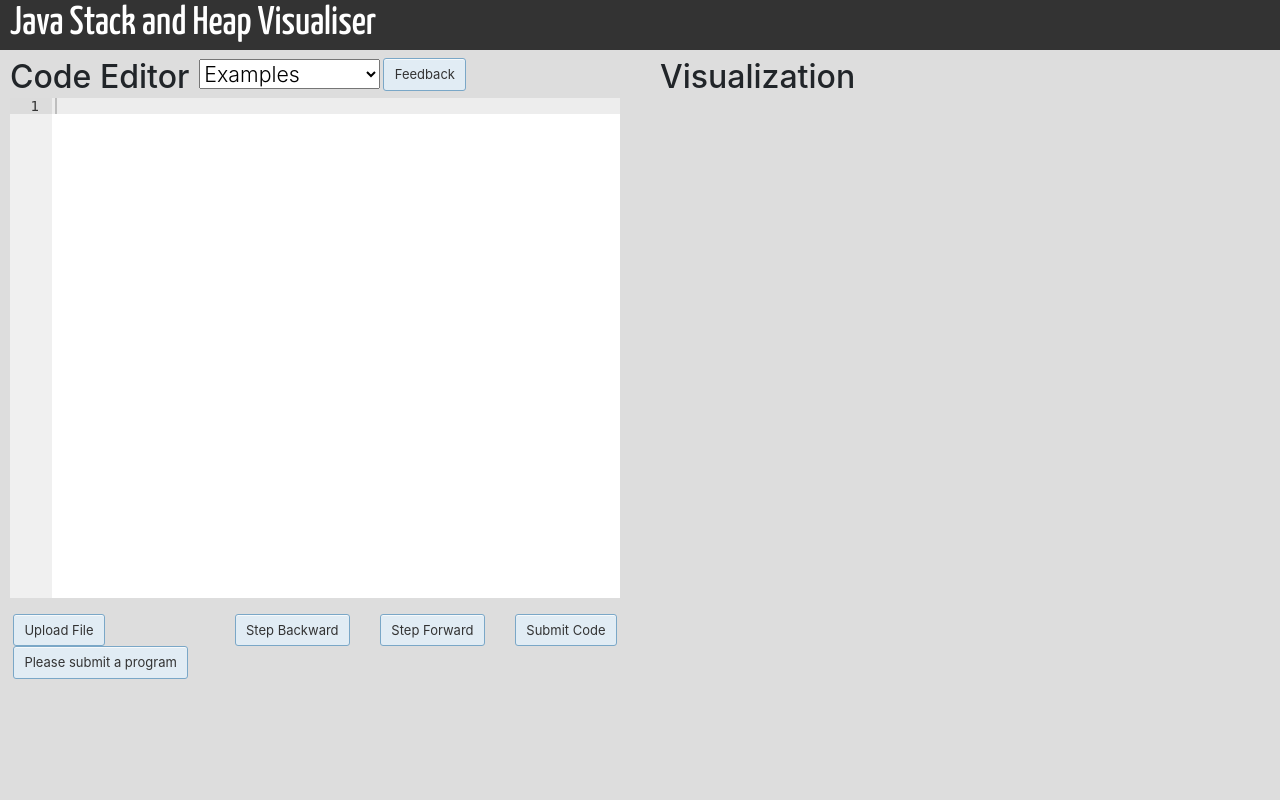
submits stored Java source to the hosted API and displays its steps
This screenshot has width=1280, height=800.
Click the button "Submit Code" at (566, 630), box x1=515 y1=614 x2=617 y2=646
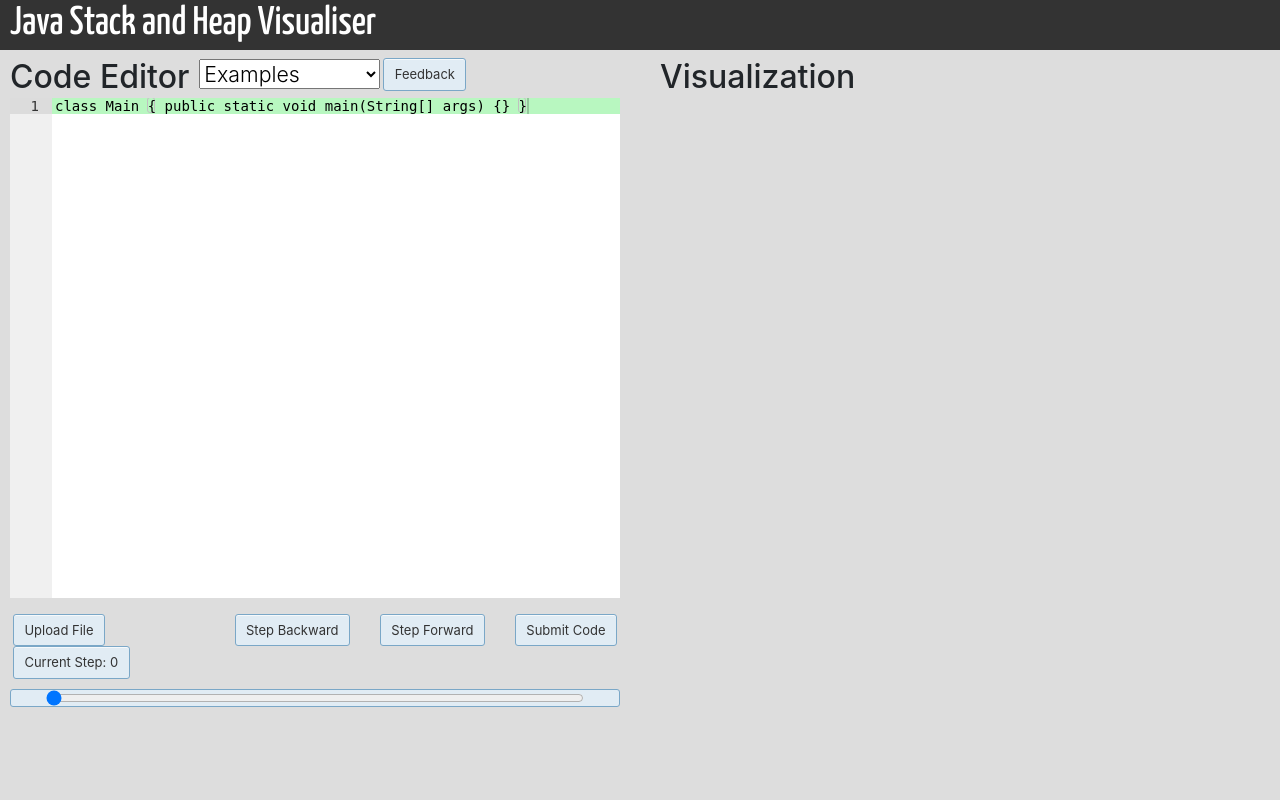
Now the text "Current Step: 0" is shown, box x1=13 y1=646 x2=130 y2=679
